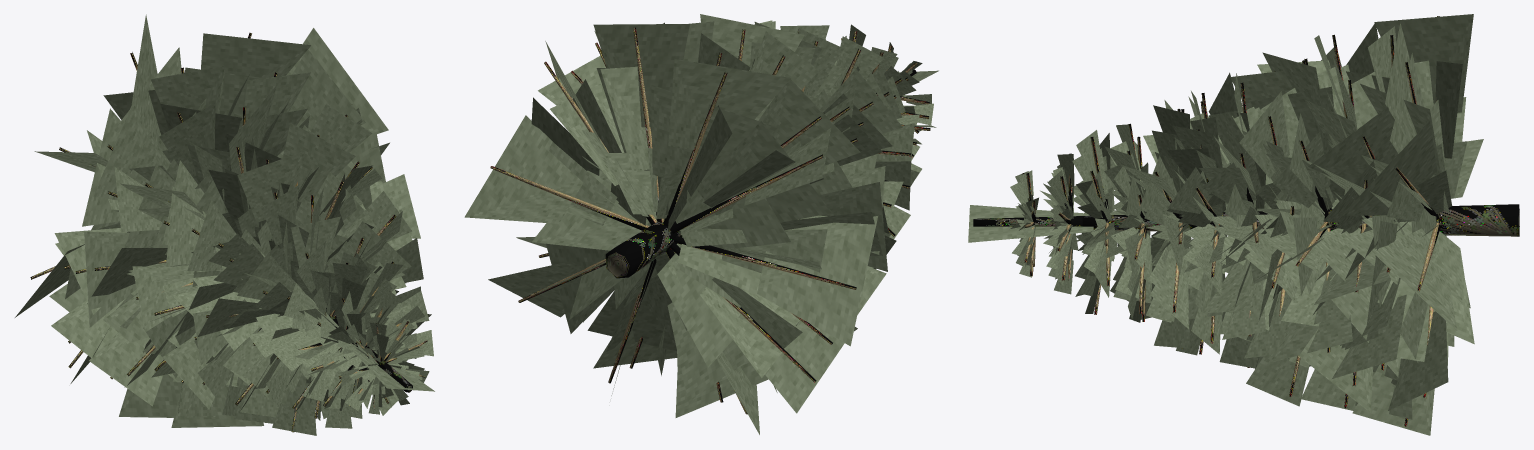
Rendered from FIR_local.glb.
3 renders of one model, left to right at view 1: azimuth 30°, elevation 25°; view 2: azimuth 150°, elevation 25°; view 3: azimuth 270°, elevation 25°, orthographic. The views are drawn at different scales.
Visible parts, largest first — view 1: NeedleSprigCards_DoubleSided_MASK, StructuralBranches_Conifer, TreeTrunk_Bark; view 2: NeedleSprigCards_DoubleSided_MASK, StructuralBranches_Conifer, TreeTrunk_Bark; view 3: NeedleSprigCards_DoubleSided_MASK, StructuralBranches_Conifer, TreeTrunk_Bark.
Part boxes in pixels (box(x1,y1,x2,y2)): NeedleSprigCards_DoubleSided_MASK: box(15, 14, 434, 435); StructuralBranches_Conifer: box(30, 32, 427, 432); TreeTrunk_Bark: box(329, 314, 412, 392); NeedleSprigCards_DoubleSided_MASK: box(464, 14, 938, 434); StructuralBranches_Conifer: box(490, 27, 930, 414); TreeTrunk_Bark: box(605, 69, 916, 278); NeedleSprigCards_DoubleSided_MASK: box(968, 14, 1483, 435); StructuralBranches_Conifer: box(1022, 16, 1440, 426); TreeTrunk_Bark: box(973, 204, 1519, 236).
Size of the model in its own units: 1.7 by 1.69 by 2.22.
Materials: 2 (2 with a texture image).
